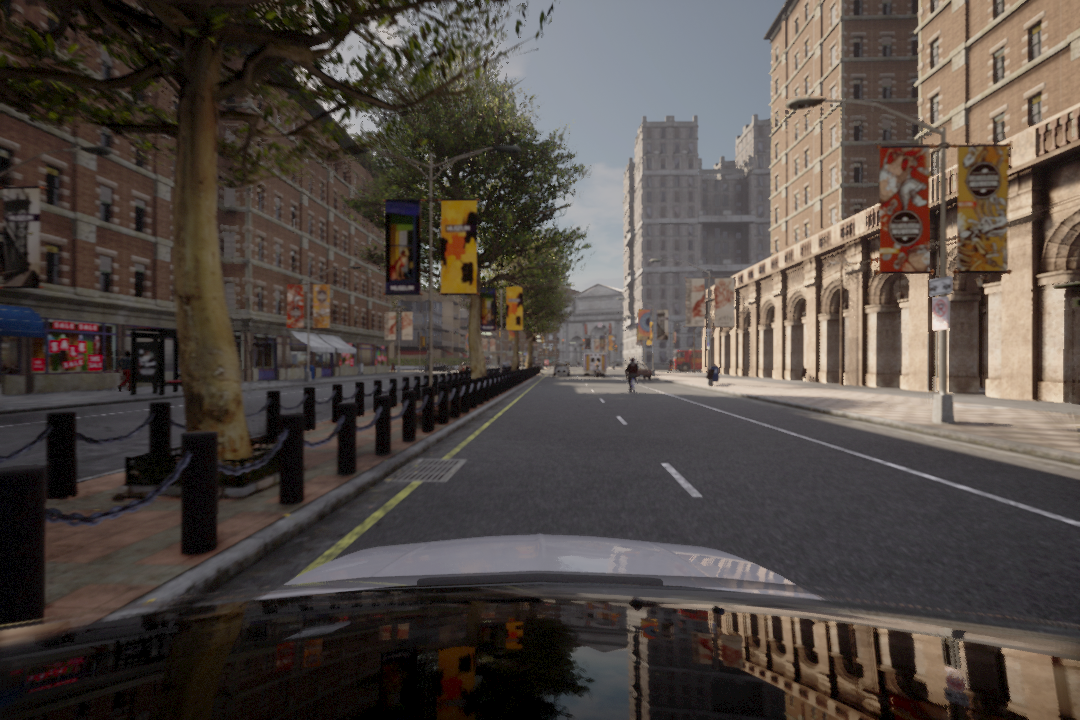TrafficSign_nstop: (931, 299, 951, 332)
